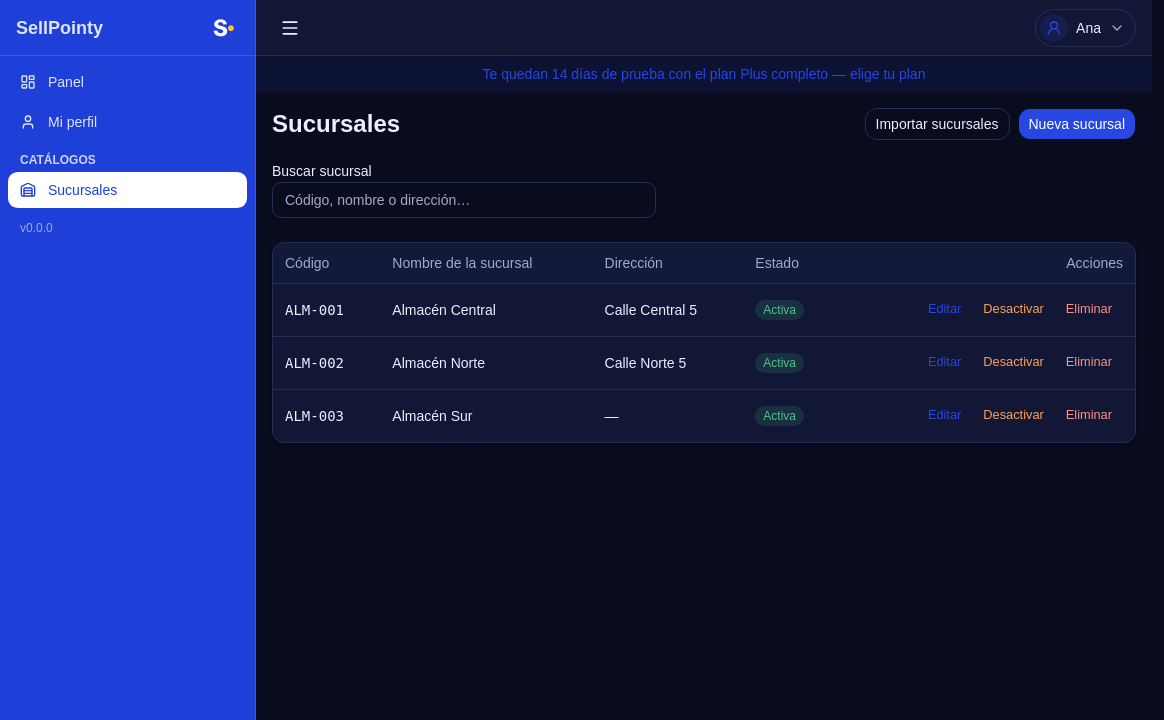
Test: buscador de sucursales (Carlos, 2026-09-01) › filtra por nombre sin distinguir mayúsculas; el resto de filas desaparece
The image size is (1164, 720).
Check: the text "Almacén Norte" is shown, box [380,336,593,389]
Type "norte" into the field labelled "Buscar sucursal" at {"x": 464, "y": 200}, box [272,182,656,218]
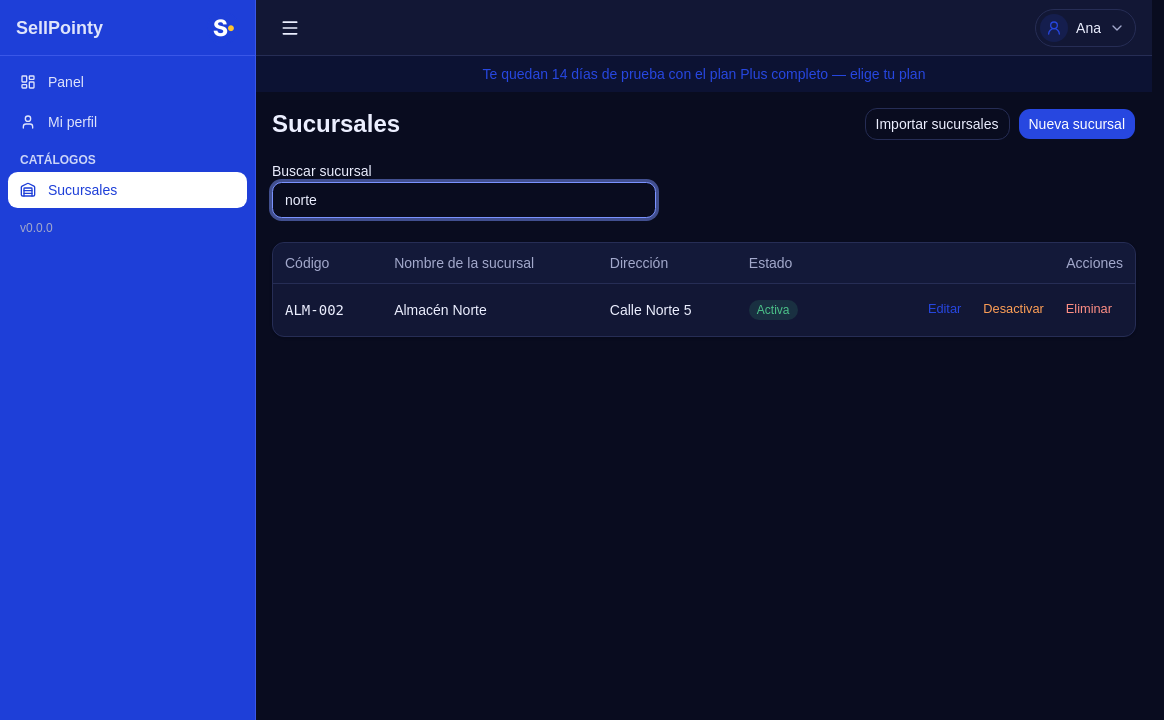
Check: the text "Almacén Norte" is shown, box [382,283,598,336]
Check: the text "Almacén Central" is gone
Check: the text "Almacén Sur" is gone
